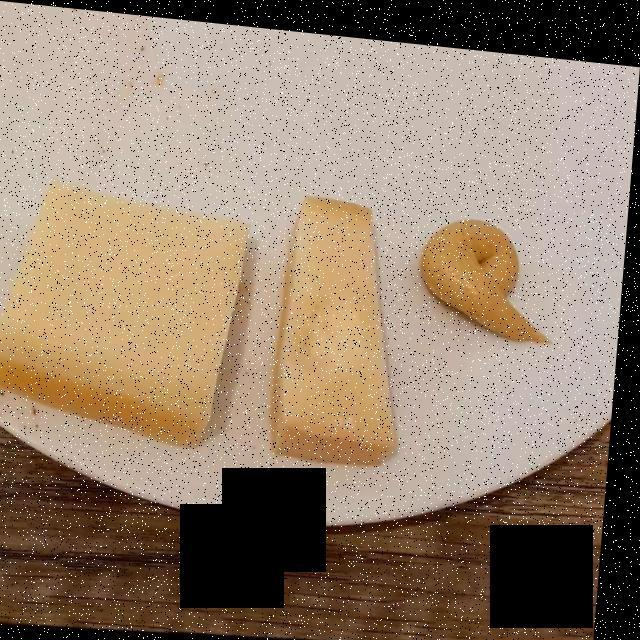cheese: (0, 181, 397, 450)
mustard: (428, 209, 552, 330)
